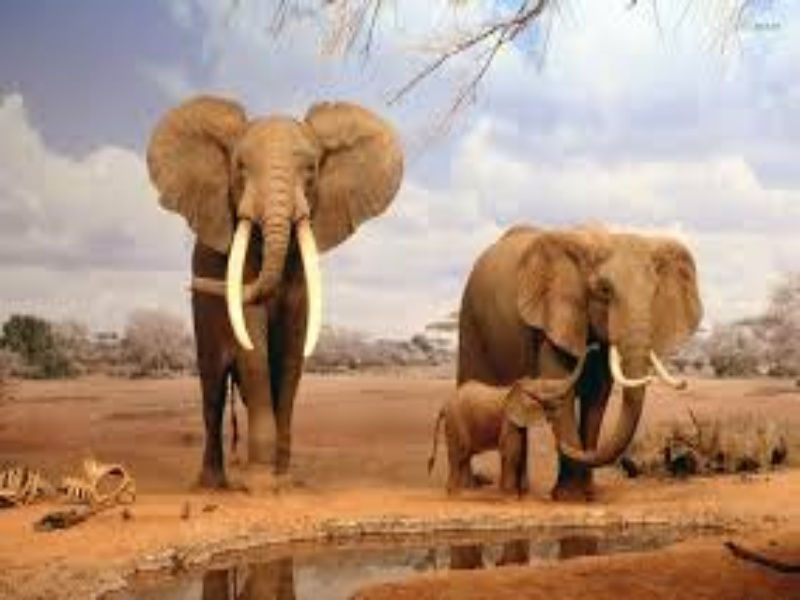elephant: (145, 94, 716, 517)
